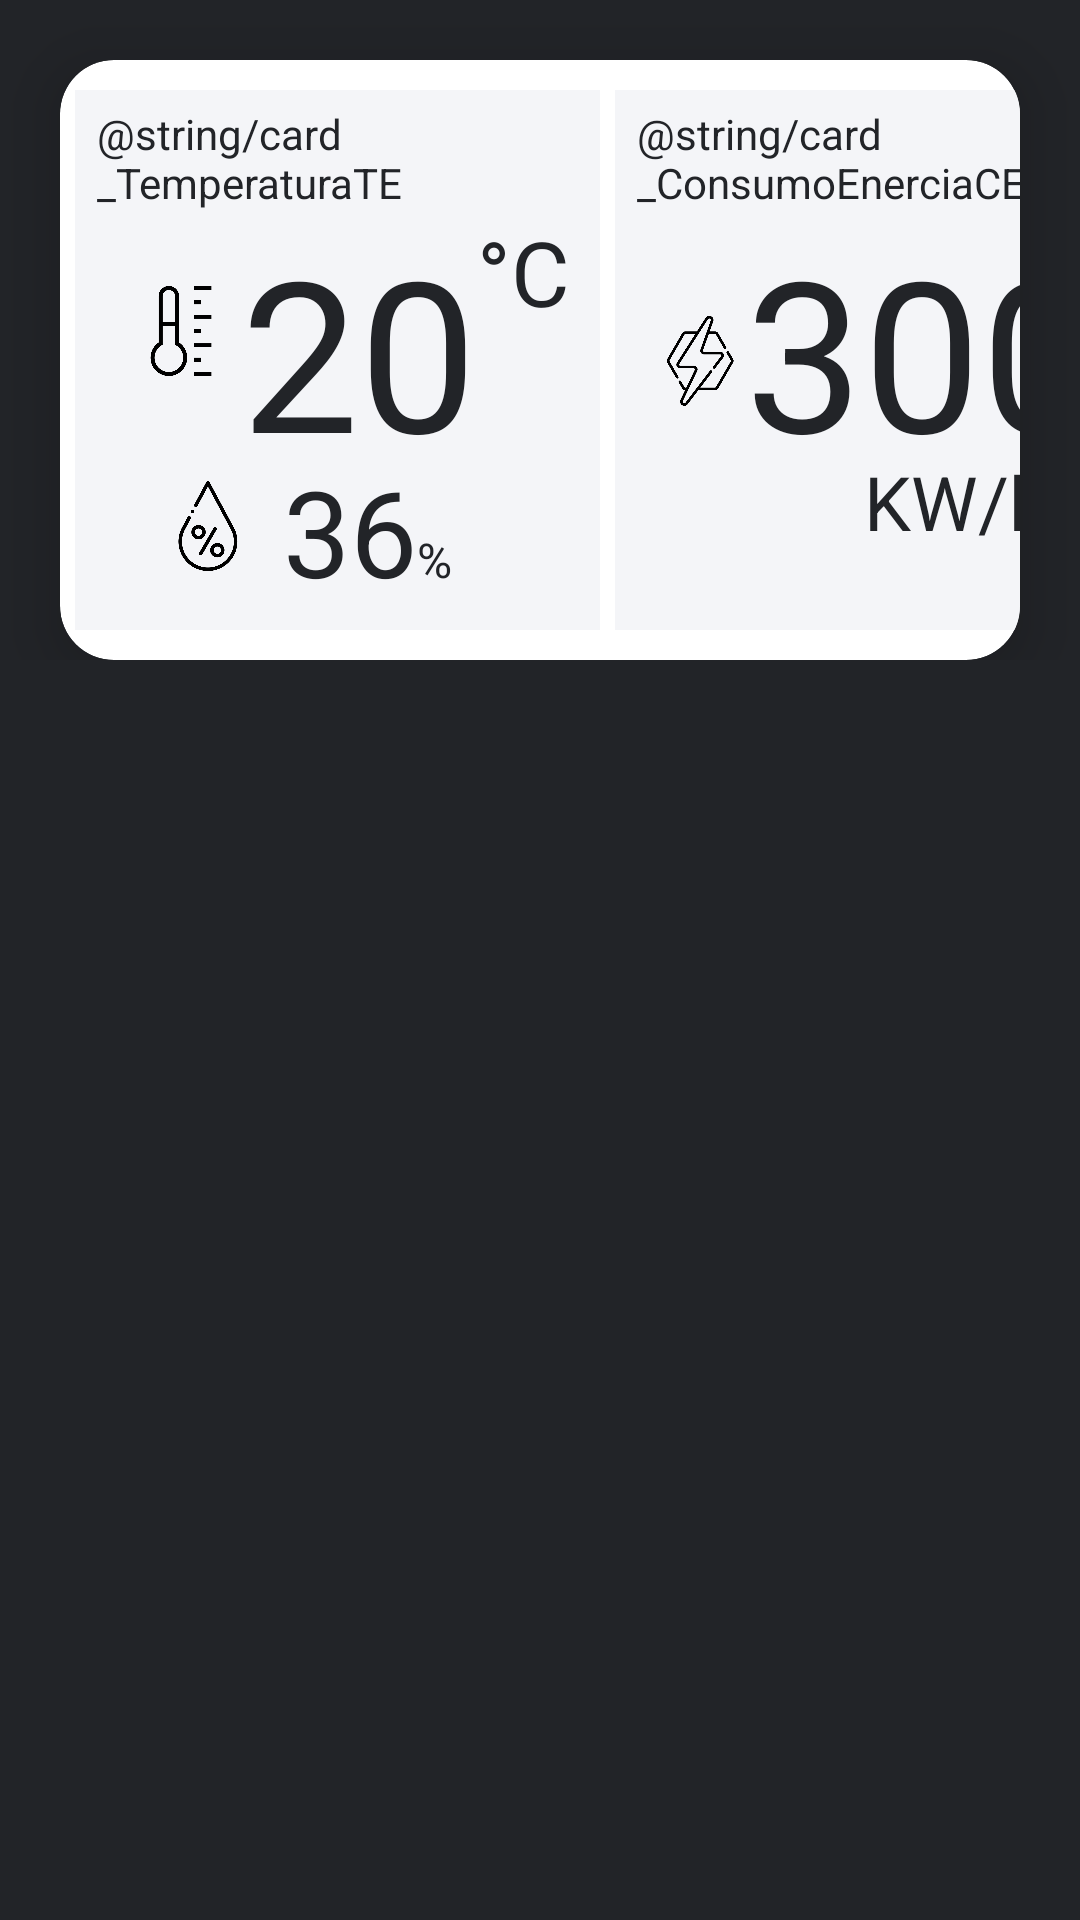

Where icons sit on this 1080px x 1920px app screen, as (x1, y1, x2, y2):
humidity: (178, 481, 237, 571)
temperature: (150, 286, 212, 376)
thunder: (667, 316, 734, 406)
